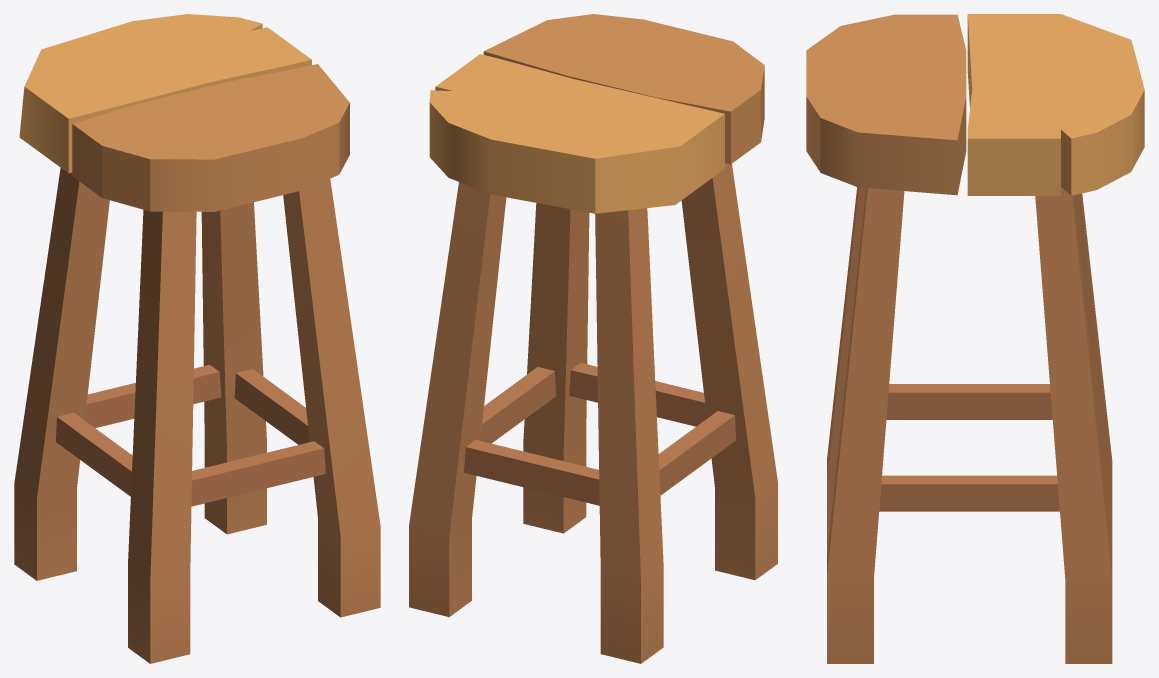
File: smal chair.fbx
3 views of the same model, side by side, from view 1: azimuth 30°, elevation 25°; view 2: azimuth 150°, elevation 25°; view 3: azimuth 270°, elevation 25° (orthographic). The views are drawn at different scales.
Parts seen in each view (by area): view 1: pCube212; view 2: pCube212; view 3: pCube212.
Part boxes in pixels (x1=…): pCube212: x1=14, y1=14, x2=380, y2=663; pCube212: x1=409, y1=14, x2=777, y2=663; pCube212: x1=806, y1=14, x2=1144, y2=663.
Size of the model in its own units: 0.3483 by 0.6758 by 0.3952.
